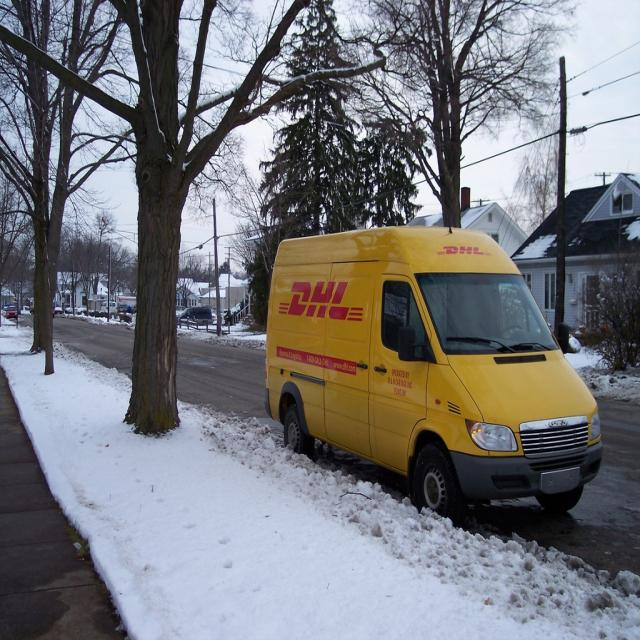dhl: (275, 278, 368, 327), (437, 237, 494, 262)
